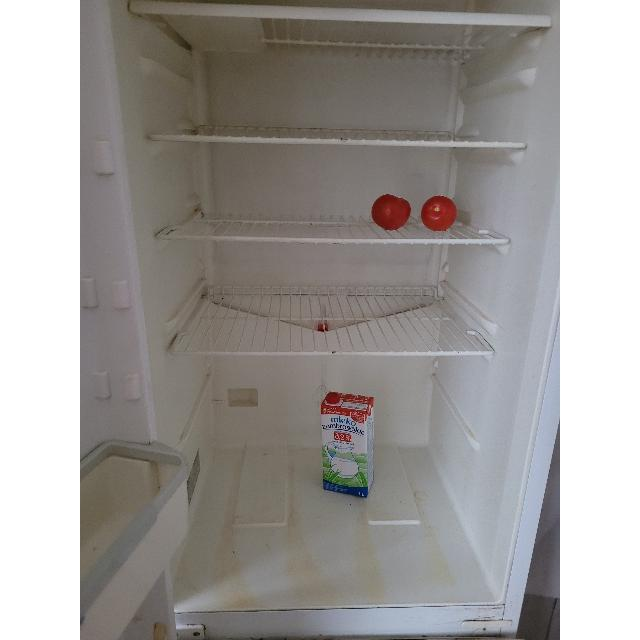milk: (320, 390, 374, 498)
tomato: (371, 193, 411, 231), (420, 194, 460, 232)
